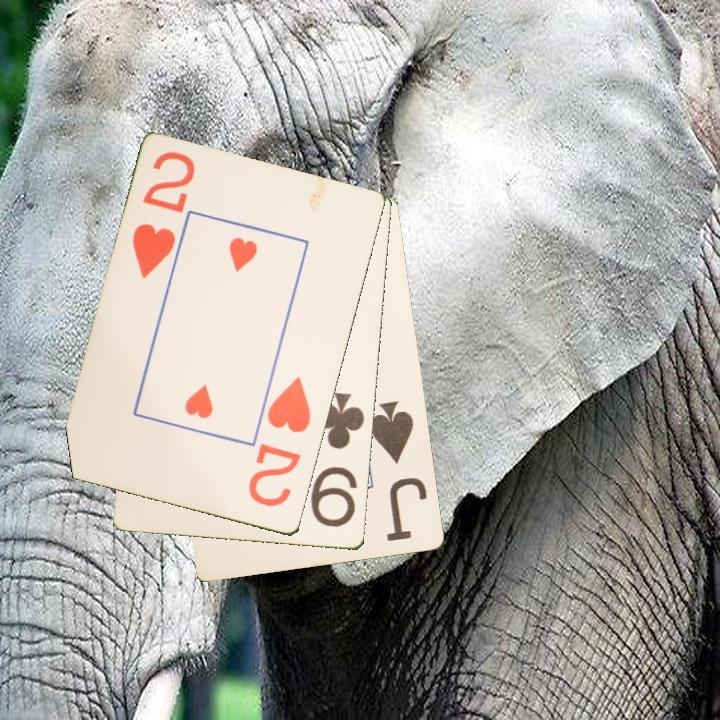2h: (245, 373, 314, 511), (129, 148, 199, 282)
9c: (307, 389, 368, 531)
Js: (366, 398, 431, 545)
